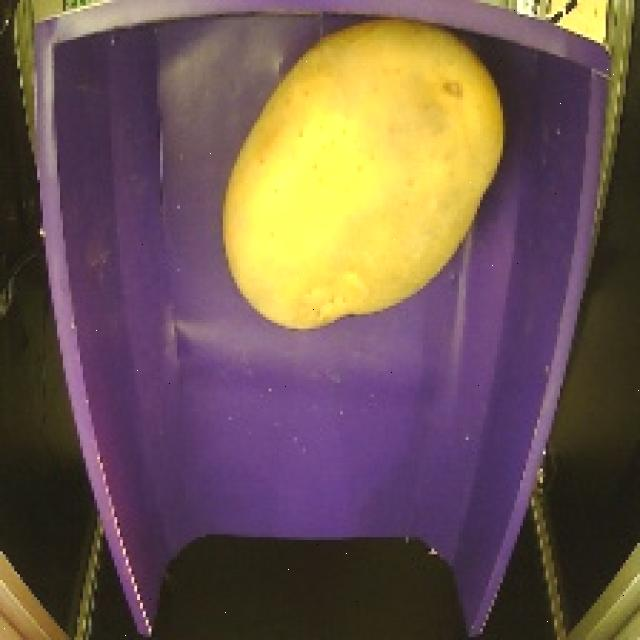full_potato: (208, 11, 514, 347)
